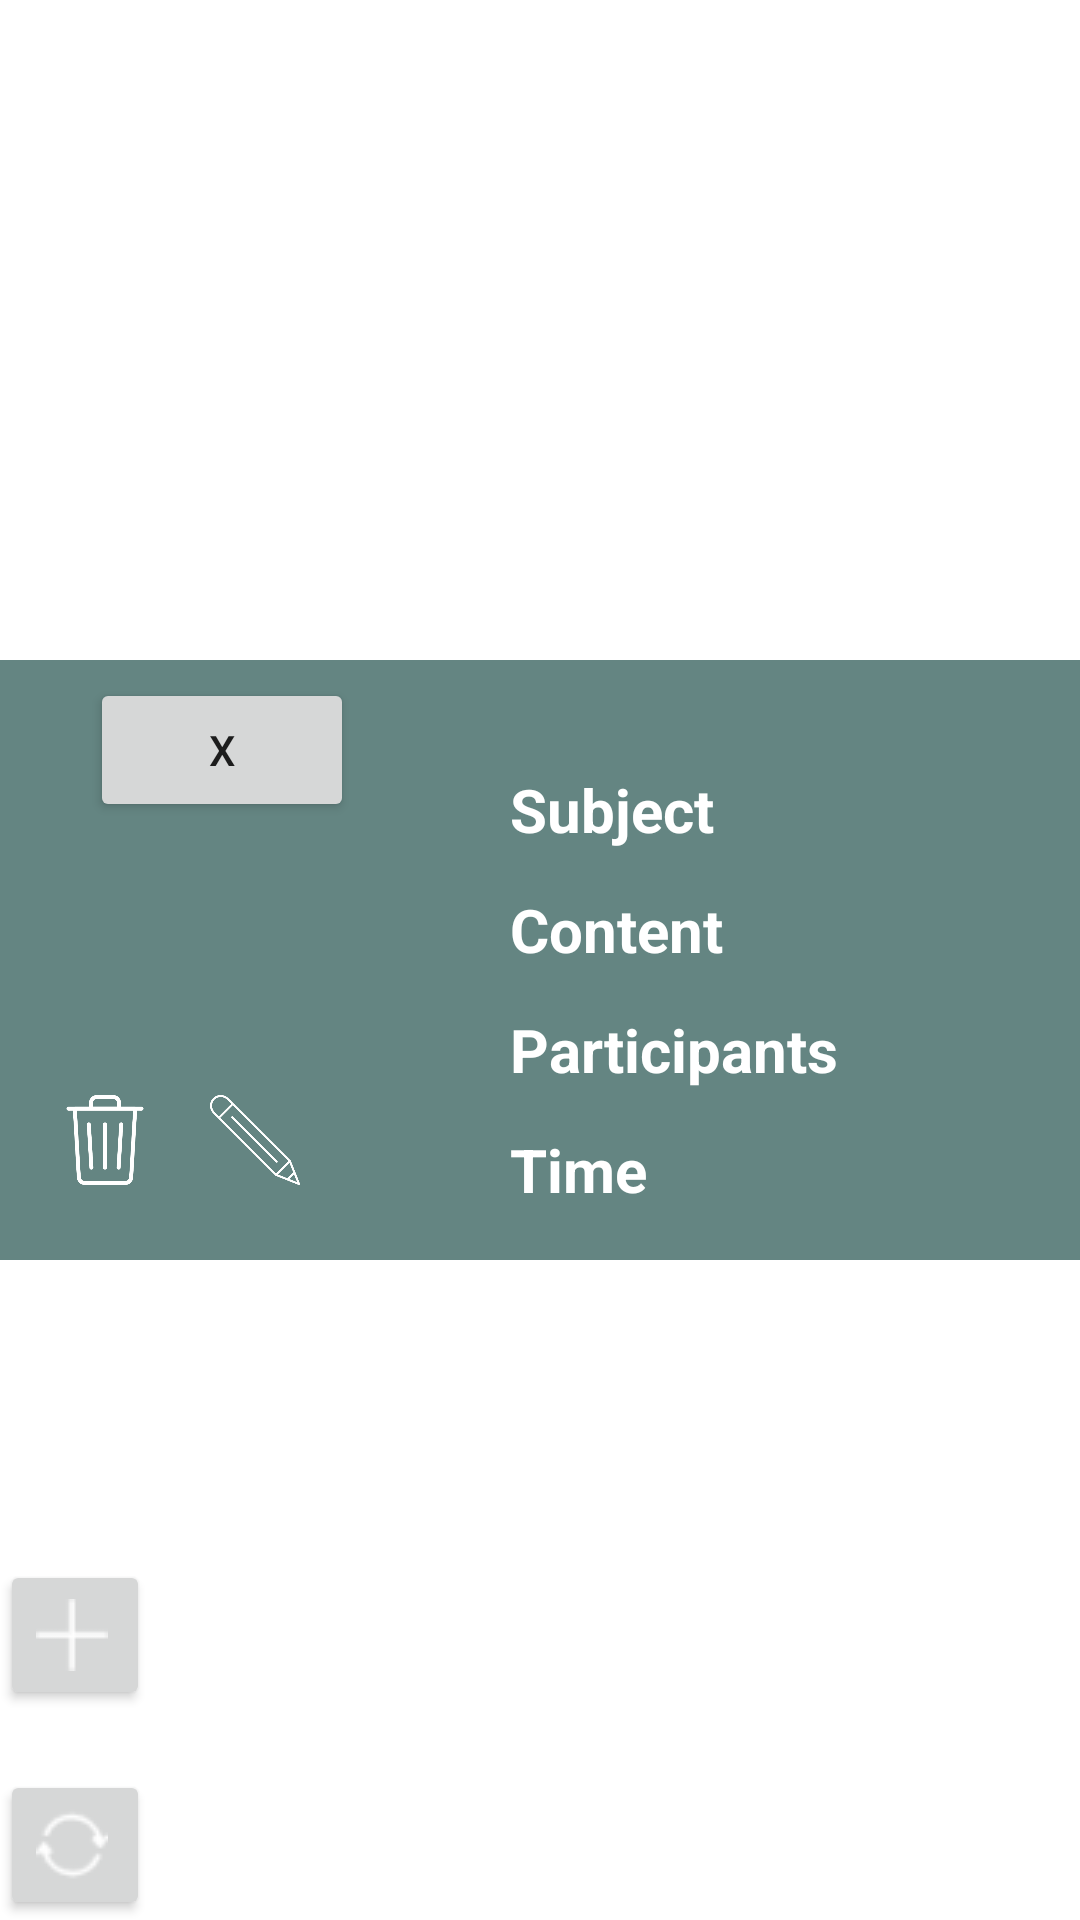

Icons on this 1080×1920 Android screen, each with its box as (x1, y1, x2, y2):
pencil: (210, 1095, 300, 1185)
trashsymbol: (66, 1095, 144, 1185)
